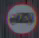Heavy Vehicles: (4, 0, 37, 37)
